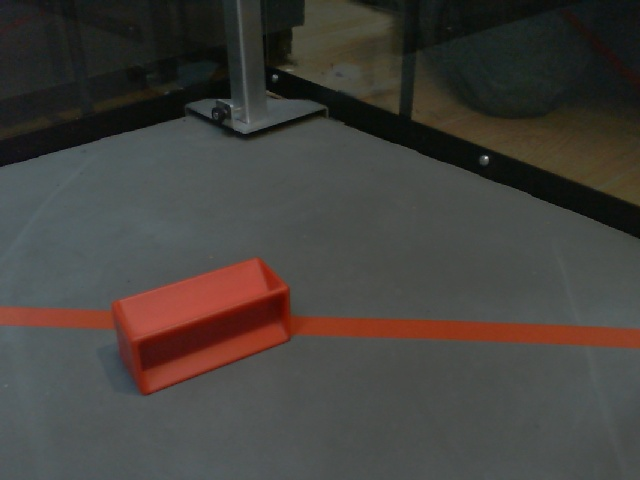RedSample: (111, 253, 293, 396)
